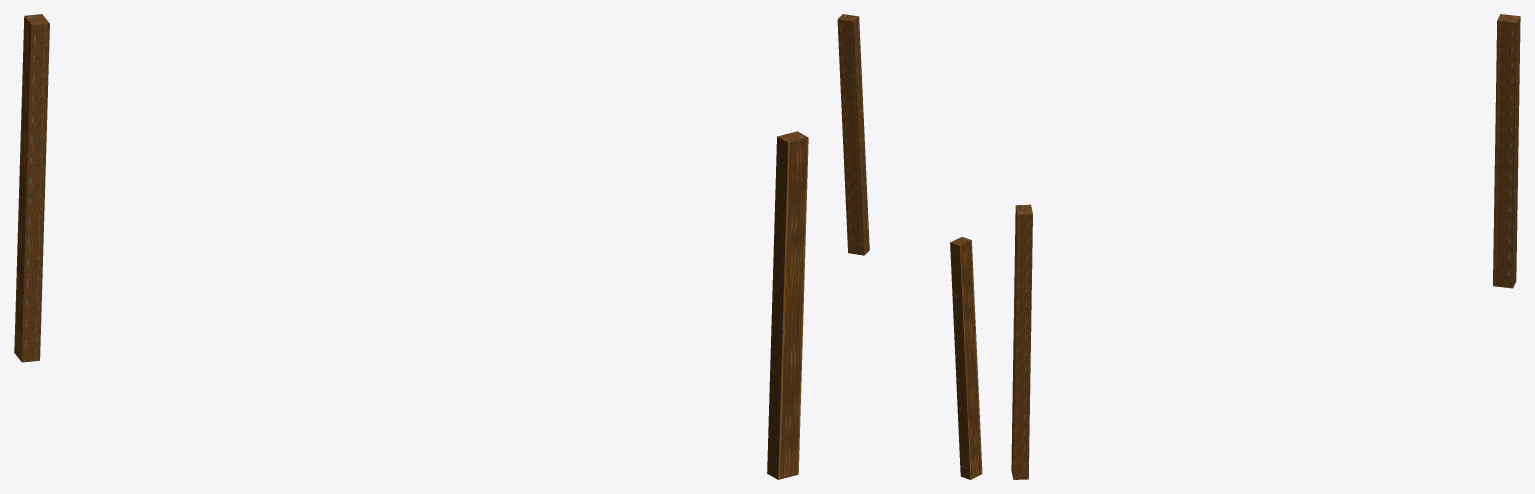
The picture shows the model from 3 angles, left to right: view 1: azimuth 30°, elevation 25°; view 2: azimuth 150°, elevation 25°; view 3: azimuth 270°, elevation 25°; orthographic projection. The views are drawn at different scales.
Visible parts, largest first — view 1: Cube.740; view 2: Cube.740; view 3: Cube.740.
Boxes of the visible parts, bbox=[...] form: Cube.740: bbox=[14, 14, 808, 479]; Cube.740: bbox=[837, 14, 982, 479]; Cube.740: bbox=[1011, 14, 1520, 479].
Size of the model in its own units: 1691 by 1130 by 1859.
1 material, 1 textured.
